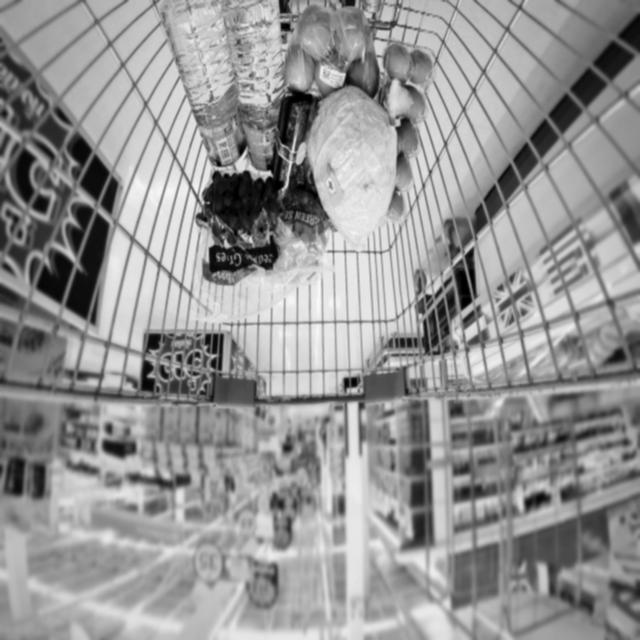apple: (280, 3, 380, 103)
bap cai: (308, 83, 400, 245)
egg: (380, 41, 432, 228)
grape: (198, 166, 280, 266)
